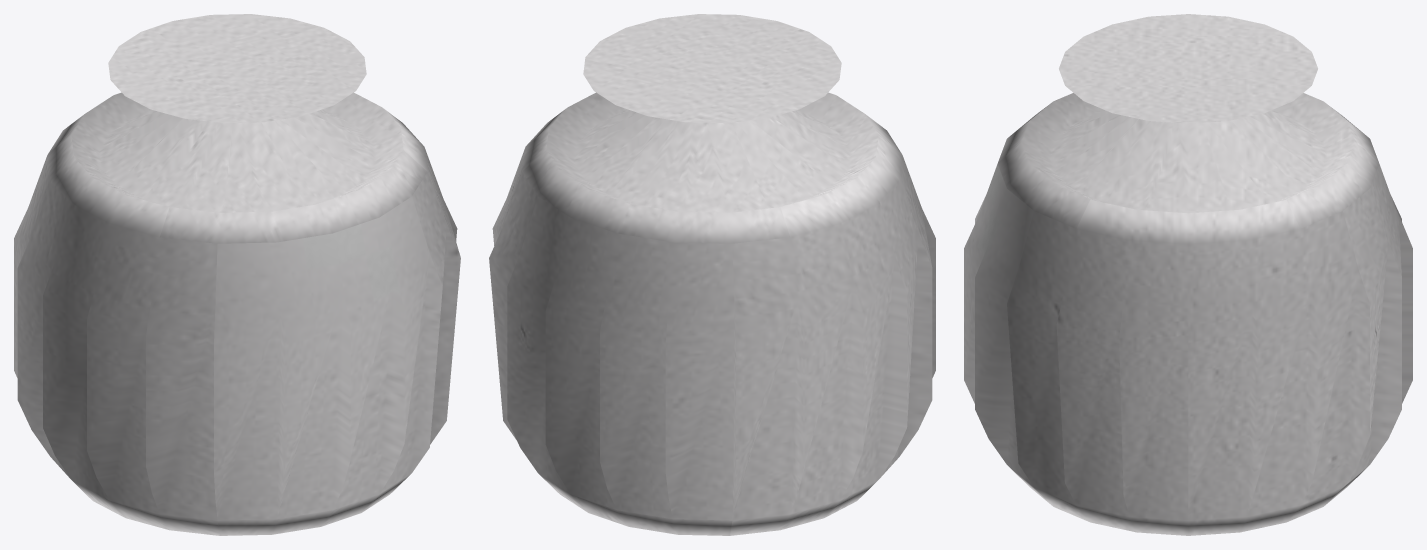
File: cielinglight.fbx
3 views of the same model, side by side, from view 1: azimuth 30°, elevation 25°; view 2: azimuth 150°, elevation 25°; view 3: azimuth 270°, elevation 25° (orthographic).
Parts seen in each view (by area): view 1: cielinglight; view 2: cielinglight; view 3: cielinglight.
Part boxes in pixels (box(x1,y1,x2,y2)): cielinglight: box(14, 14, 460, 535); cielinglight: box(489, 14, 935, 535); cielinglight: box(964, 14, 1412, 535).
Size of the model in its own units: 1.9 by 1.85 by 1.9.
Materials: 2 (1 with a texture image).
